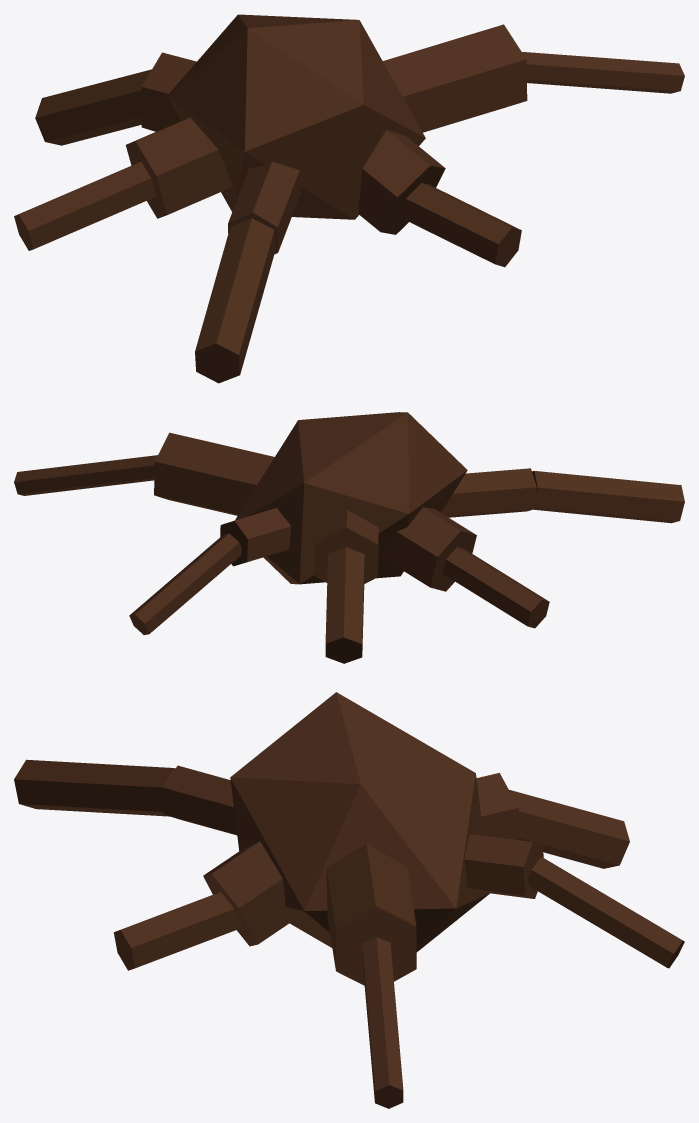
Rendered from root_cluster_c.glb.
The picture shows the model from 3 angles, top to bottom: view 1: azimuth 30°, elevation 25°; view 2: azimuth 150°, elevation 25°; view 3: azimuth 270°, elevation 25°; orthographic projection. The views are drawn at different scales.
Visible parts, largest first — view 1: Root_Knot.002, Root_1_A.002, Root_5_B.002, Root_4_A.002, Root_4_B.002, Root_3_B.002, Root_6_A.002, Root_6_B.002, Root_1_B.002, Root_5_A.002, Root_3_A.002; view 2: Root_Knot.002, Root_1_A.002, Root_5_B.002, Root_4_A.002, Root_3_B.002, Root_4_B.002, Root_2_B.002, Root_5_A.002, Root_1_B.002, Root_3_A.002, Root_2_A.002; view 3: Root_Knot.002, Root_1_A.002, Root_5_B.002, Root_3_B.002, Root_2_B.002, Root_6_A.002, Root_6_B.002, Root_1_B.002, Root_2_A.002, Root_5_A.002, Root_3_A.002.
Boxes of the visible parts, x1=… form: Root_Knot.002: x1=167, y1=14, x2=425, y2=219; Root_1_A.002: x1=383, y1=24, x2=527, y2=132; Root_5_B.002: x1=195, y1=218, x2=275, y2=383; Root_4_A.002: x1=125, y1=117, x2=233, y2=218; Root_4_B.002: x1=14, y1=162, x2=156, y2=250; Root_3_B.002: x1=35, y1=69, x2=151, y2=145; Root_6_A.002: x1=358, y1=130, x2=445, y2=234; Root_6_B.002: x1=400, y1=183, x2=521, y2=267; Root_1_B.002: x1=522, y1=52, x2=684, y2=93; Root_5_A.002: x1=228, y1=161, x2=301, y2=254; Root_3_A.002: x1=141, y1=52, x2=196, y2=131; Root_Knot.002: x1=235, y1=412, x2=467, y2=584; Root_1_A.002: x1=154, y1=432, x2=274, y2=515; Root_5_B.002: x1=532, y1=471, x2=684, y2=523; Root_4_A.002: x1=380, y1=507, x2=476, y2=591; Root_3_B.002: x1=325, y1=547, x2=364, y2=663; Root_4_B.002: x1=442, y1=547, x2=549, y2=628; Root_2_B.002: x1=129, y1=533, x2=241, y2=634; Root_5_A.002: x1=441, y1=468, x2=536, y2=517; Root_1_B.002: x1=14, y1=455, x2=157, y2=495; Root_3_A.002: x1=315, y1=510, x2=379, y2=583; Root_2_A.002: x1=220, y1=508, x2=291, y2=566; Root_Knot.002: x1=230, y1=692, x2=489, y2=951; Root_1_A.002: x1=326, y1=843, x2=416, y2=985; Root_5_B.002: x1=14, y1=759, x2=175, y2=816; Root_3_B.002: x1=509, y1=790, x2=629, y2=868; Root_2_B.002: x1=528, y1=857, x2=684, y2=968; Root_6_A.002: x1=203, y1=841, x2=298, y2=946; Root_6_B.002: x1=113, y1=892, x2=240, y2=970; Root_1_B.002: x1=362, y1=937, x2=403, y2=1108; Root_2_A.002: x1=464, y1=834, x2=543, y2=898; Root_5_A.002: x1=162, y1=765, x2=237, y2=835; Root_3_A.002: x1=476, y1=773, x2=518, y2=839.
Bounding box in the file's own units: 2.48 × 0.8125 × 2.18.
